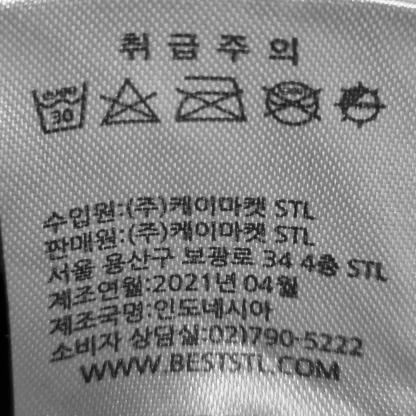ER_no_bleach: (98, 73, 166, 134)
KR_flat_dry_in_shade: (331, 73, 388, 135)
KR_hand_wash_30_neutral: (27, 75, 91, 138)
KR_no_dry_clean: (258, 72, 328, 136)
KR_no_iron: (171, 68, 250, 135)
